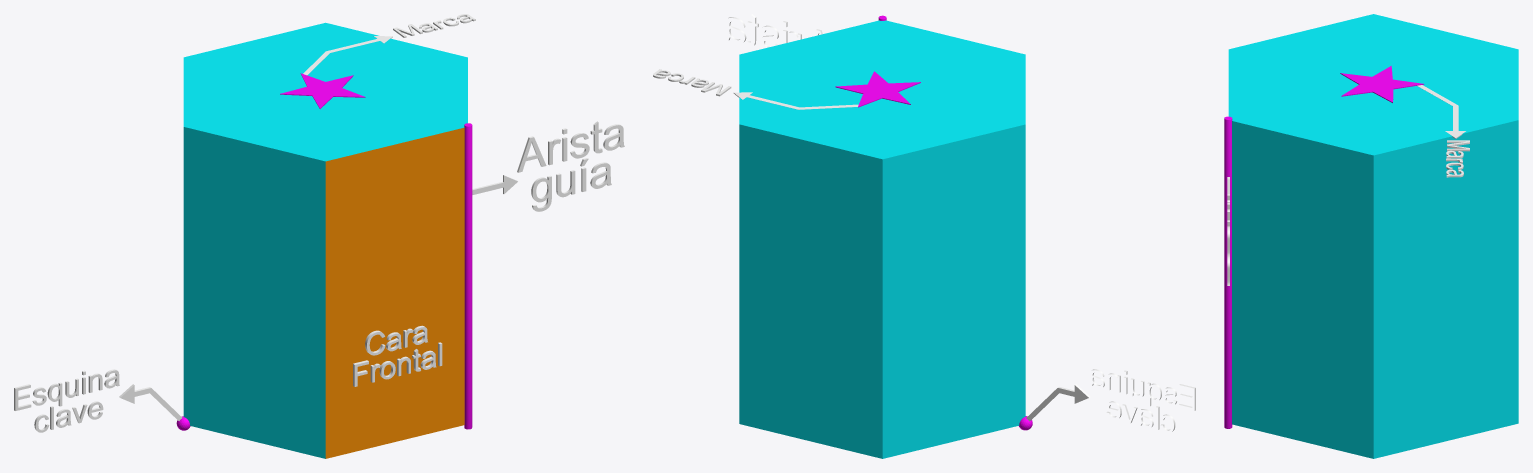
Rendered from hexagono.glb.
3 views of the same model, side by side, from view 1: azimuth 30°, elevation 25°; view 2: azimuth 150°, elevation 25°; view 3: azimuth 270°, elevation 25° (orthographic). The views are drawn at different scales.
Visible parts, largest first — view 1: Hexagono, AristaGuia, arista, EsquinaClave, CaraFrontal, Marca/Patron, Marca; view 2: Hexagono, EsquinaClave, Marca/Patron, Marca; view 3: Hexagono, arista, Marca/Patron, Marca, AristaGuia.
Boxes of the visible parts, x1,y1,x2,y2 form: Hexagono: (183,22,467,458); AristaGuia: (472,121,624,211); arista: (464,123,472,429); EsquinaClave: (14,369,182,432); CaraFrontal: (353,325,442,386); Marca/Patron: (280,73,365,108); Marca: (303,14,475,75); Hexagono: (739,20,1025,458); EsquinaClave: (1026,369,1195,431); Marca/Patron: (835,71,920,107); Marca: (653,69,858,109); Hexagono: (1228,14,1518,458); arista: (1224,116,1232,428); Marca/Patron: (1340,66,1424,102); Marca: (1417,85,1469,177); AristaGuia: (1227,177,1229,285).
Size of the model in its own units: 1.44 by 0.7823 by 0.6697.
